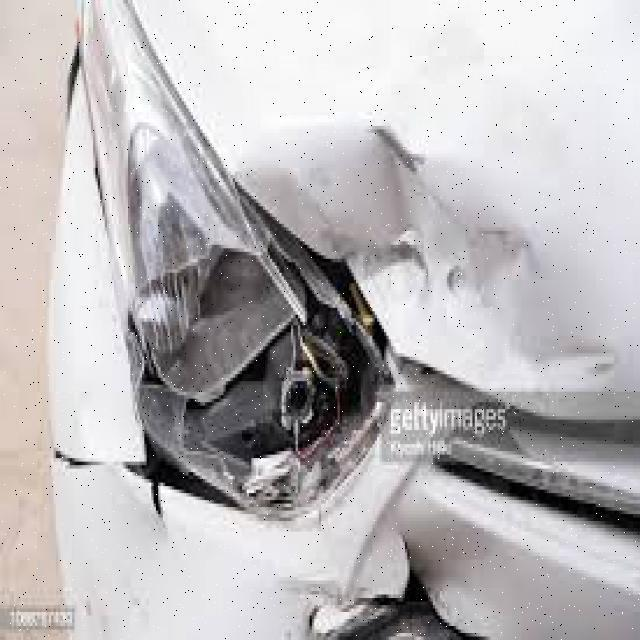Headlight-Damage: (30, 126, 368, 507)
bonnet-dent: (225, 0, 638, 402)
front-bumper-dent: (21, 426, 545, 636)
